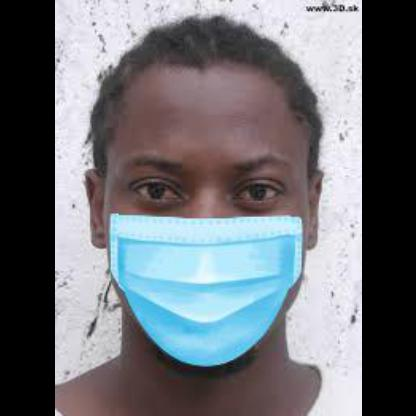Surgical Mask: (76, 110, 342, 354)
